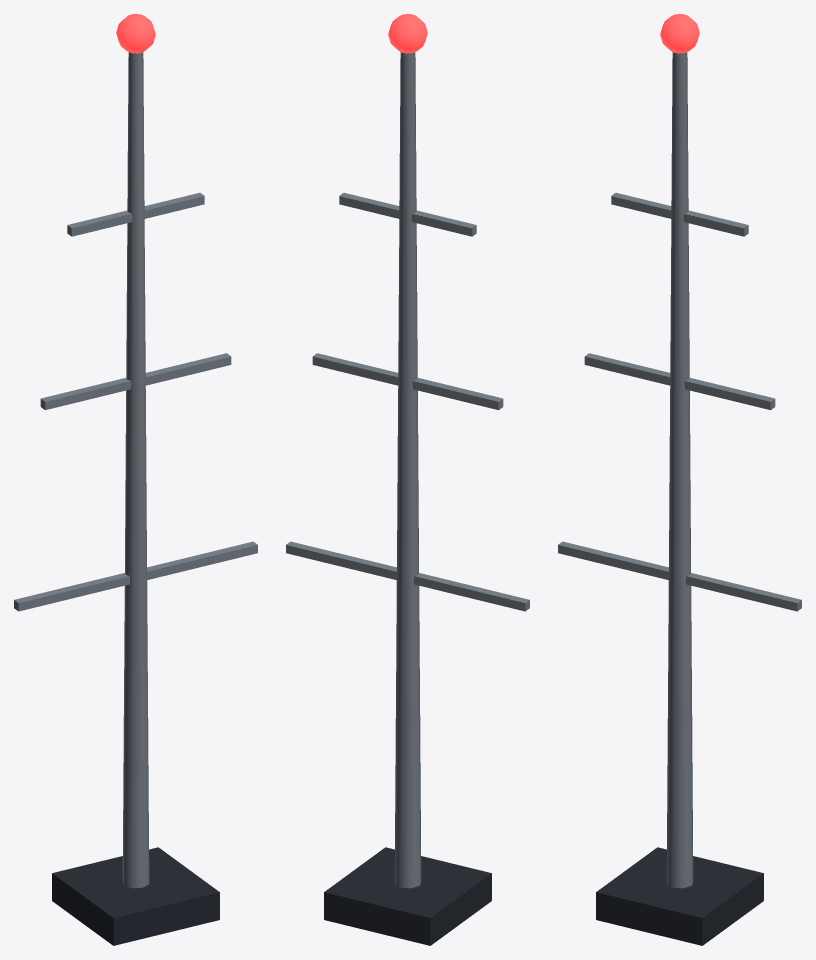
The model's file is nc_antenna.glb.
The picture shows the model from 3 angles, left to right: view 1: azimuth 30°, elevation 25°; view 2: azimuth 150°, elevation 25°; view 3: azimuth 330°, elevation 25°; orthographic projection.
Parts seen in each view (by area): view 1: nc_antenna; view 2: nc_antenna; view 3: nc_antenna.
Boxes of the visible parts, x1,y1,x2,y2 form: nc_antenna: (14, 14, 257, 945); nc_antenna: (286, 14, 529, 945); nc_antenna: (558, 14, 801, 945).
Bounding box in the file's own units: 1.8 × 6.43 × 0.8.
